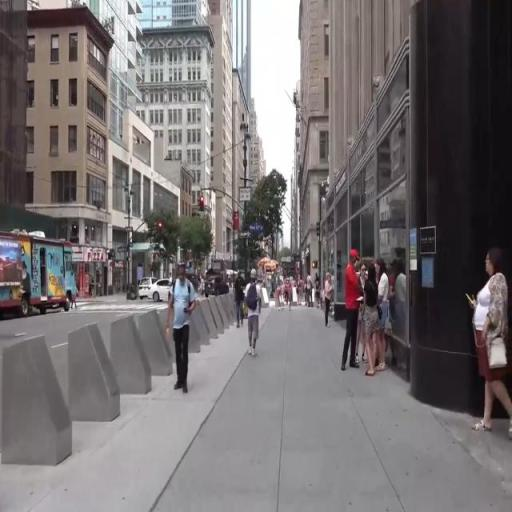person: (466, 238, 512, 450), (165, 260, 204, 399), (376, 253, 397, 367), (343, 251, 361, 373), (368, 266, 380, 375), (247, 272, 260, 362), (234, 263, 247, 337), (361, 260, 367, 365), (324, 273, 333, 327), (169, 271, 173, 303)
